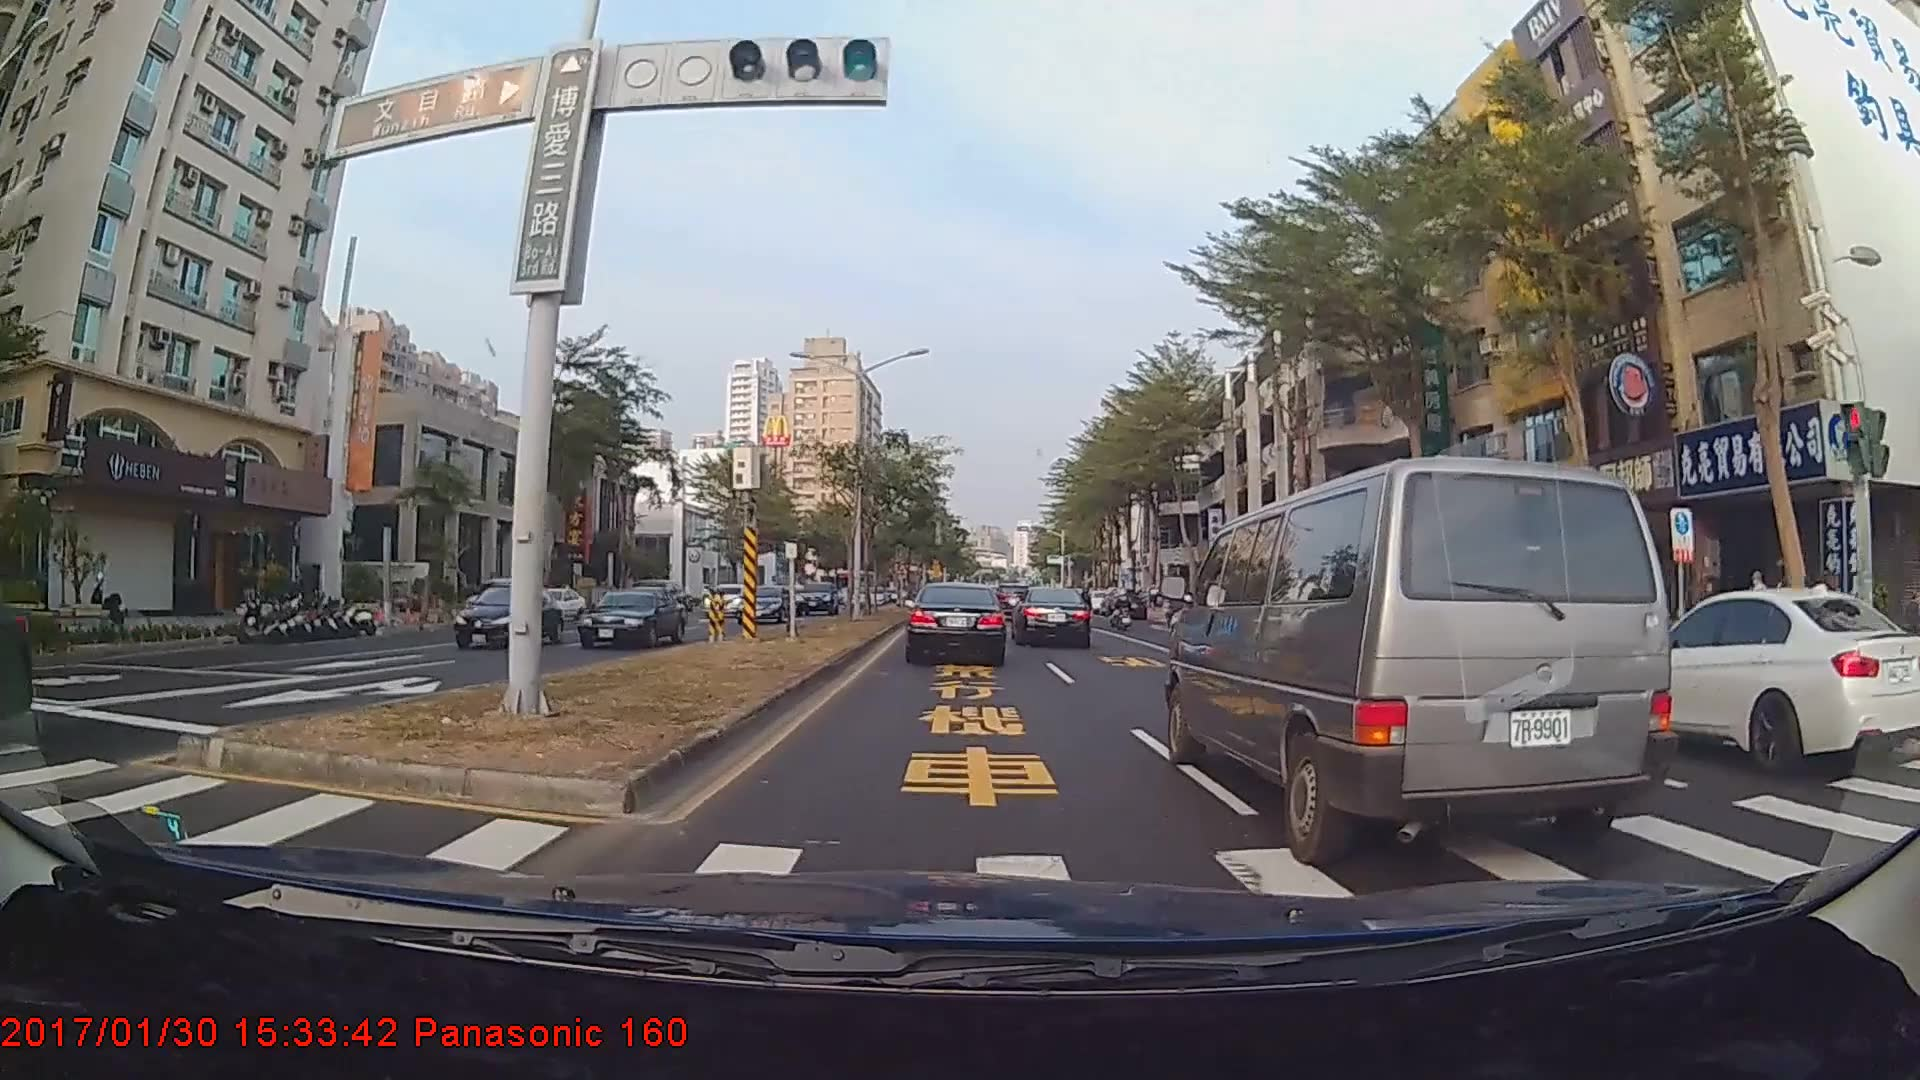vehicle: (1174, 447, 1677, 864), (1596, 584, 1920, 770), (905, 584, 1007, 666), (452, 582, 564, 647), (574, 585, 684, 651), (1011, 585, 1092, 647), (735, 584, 790, 622), (702, 582, 750, 618), (793, 582, 837, 617)
